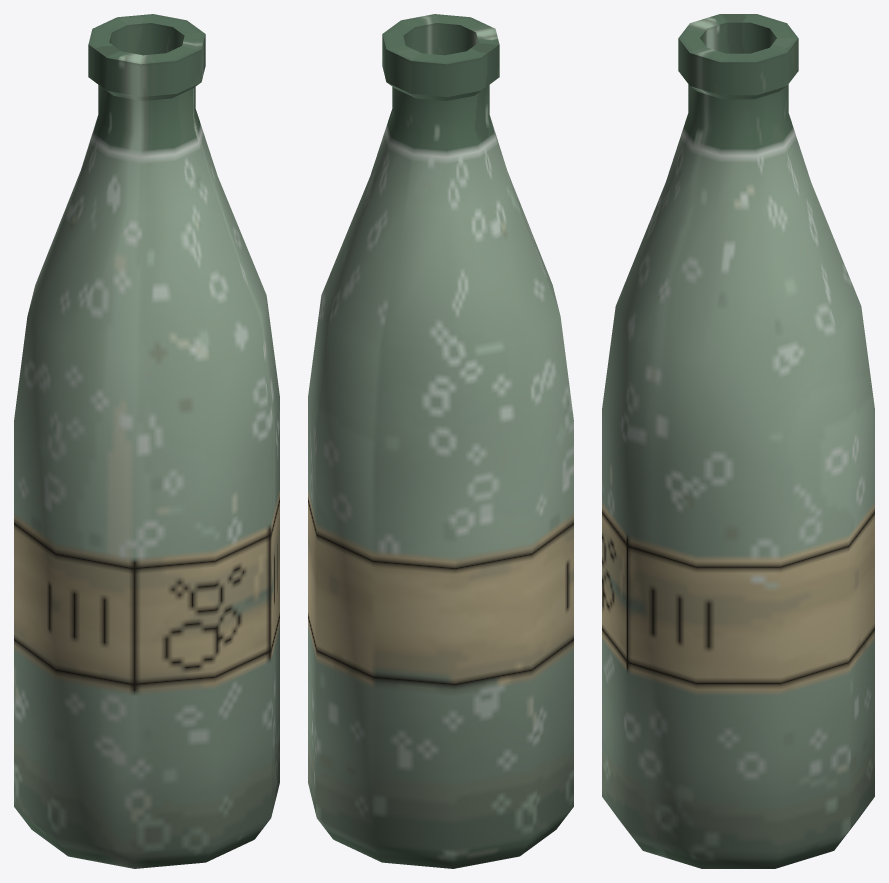
The model's file is HB_Bottle_Mixer.fbx.
3 views of the same model, side by side, from view 1: azimuth 30°, elevation 25°; view 2: azimuth 150°, elevation 25°; view 3: azimuth 270°, elevation 25° (orthographic).
Visible parts, largest first — view 1: HB_Bottle_Mixer; view 2: HB_Bottle_Mixer; view 3: HB_Bottle_Mixer.
Boxes of the visible parts, x1,y1,x2,y2 form: HB_Bottle_Mixer: [14, 14, 279, 868]; HB_Bottle_Mixer: [308, 14, 573, 868]; HB_Bottle_Mixer: [602, 14, 874, 868].
Bounding box in the file's own units: 0.0571 × 0.19 × 0.06.
1 material, 1 textured.
